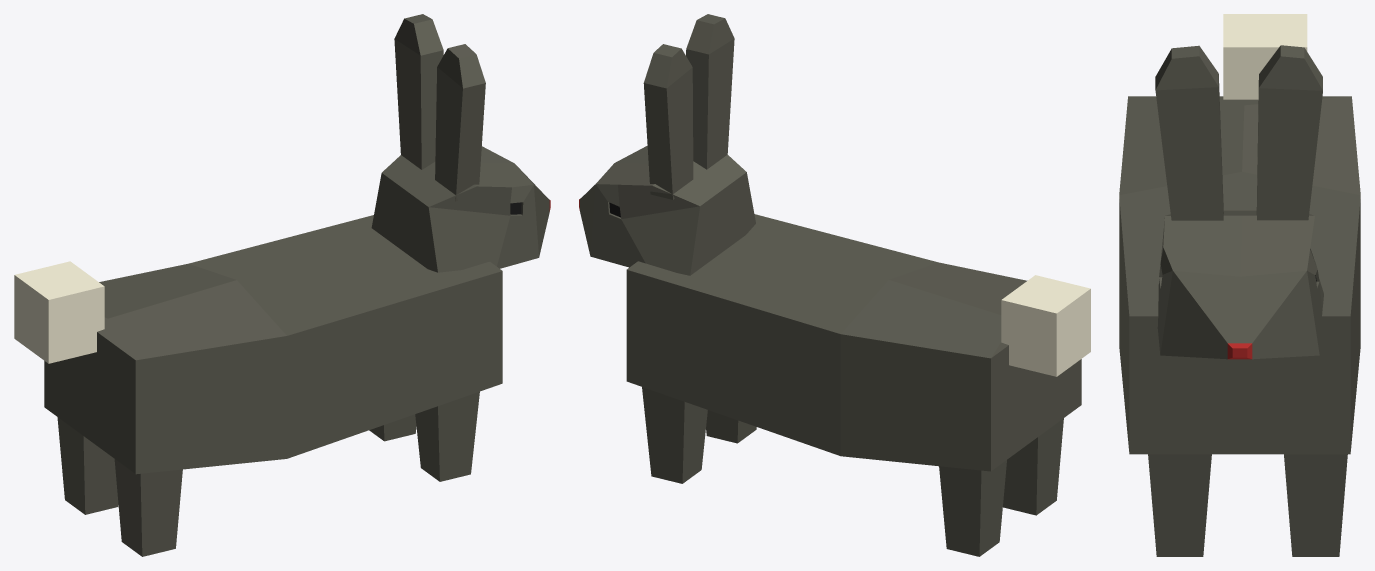
File: RabbitModel.fbx
The picture shows the model from 3 angles, left to right: view 1: azimuth 30°, elevation 25°; view 2: azimuth 150°, elevation 25°; view 3: azimuth 270°, elevation 25°; orthographic projection. The views are drawn at different scales.
Parts seen in each view (by area): view 1: Rabbit; view 2: Rabbit; view 3: Rabbit.
Boxes of the visible parts, x1,y1,x2,y2 form: Rabbit: [14, 14, 550, 556]; Rabbit: [579, 14, 1090, 556]; Rabbit: [1119, 14, 1360, 556].
Size of the model in its own units: 262 by 206 by 88.72.
